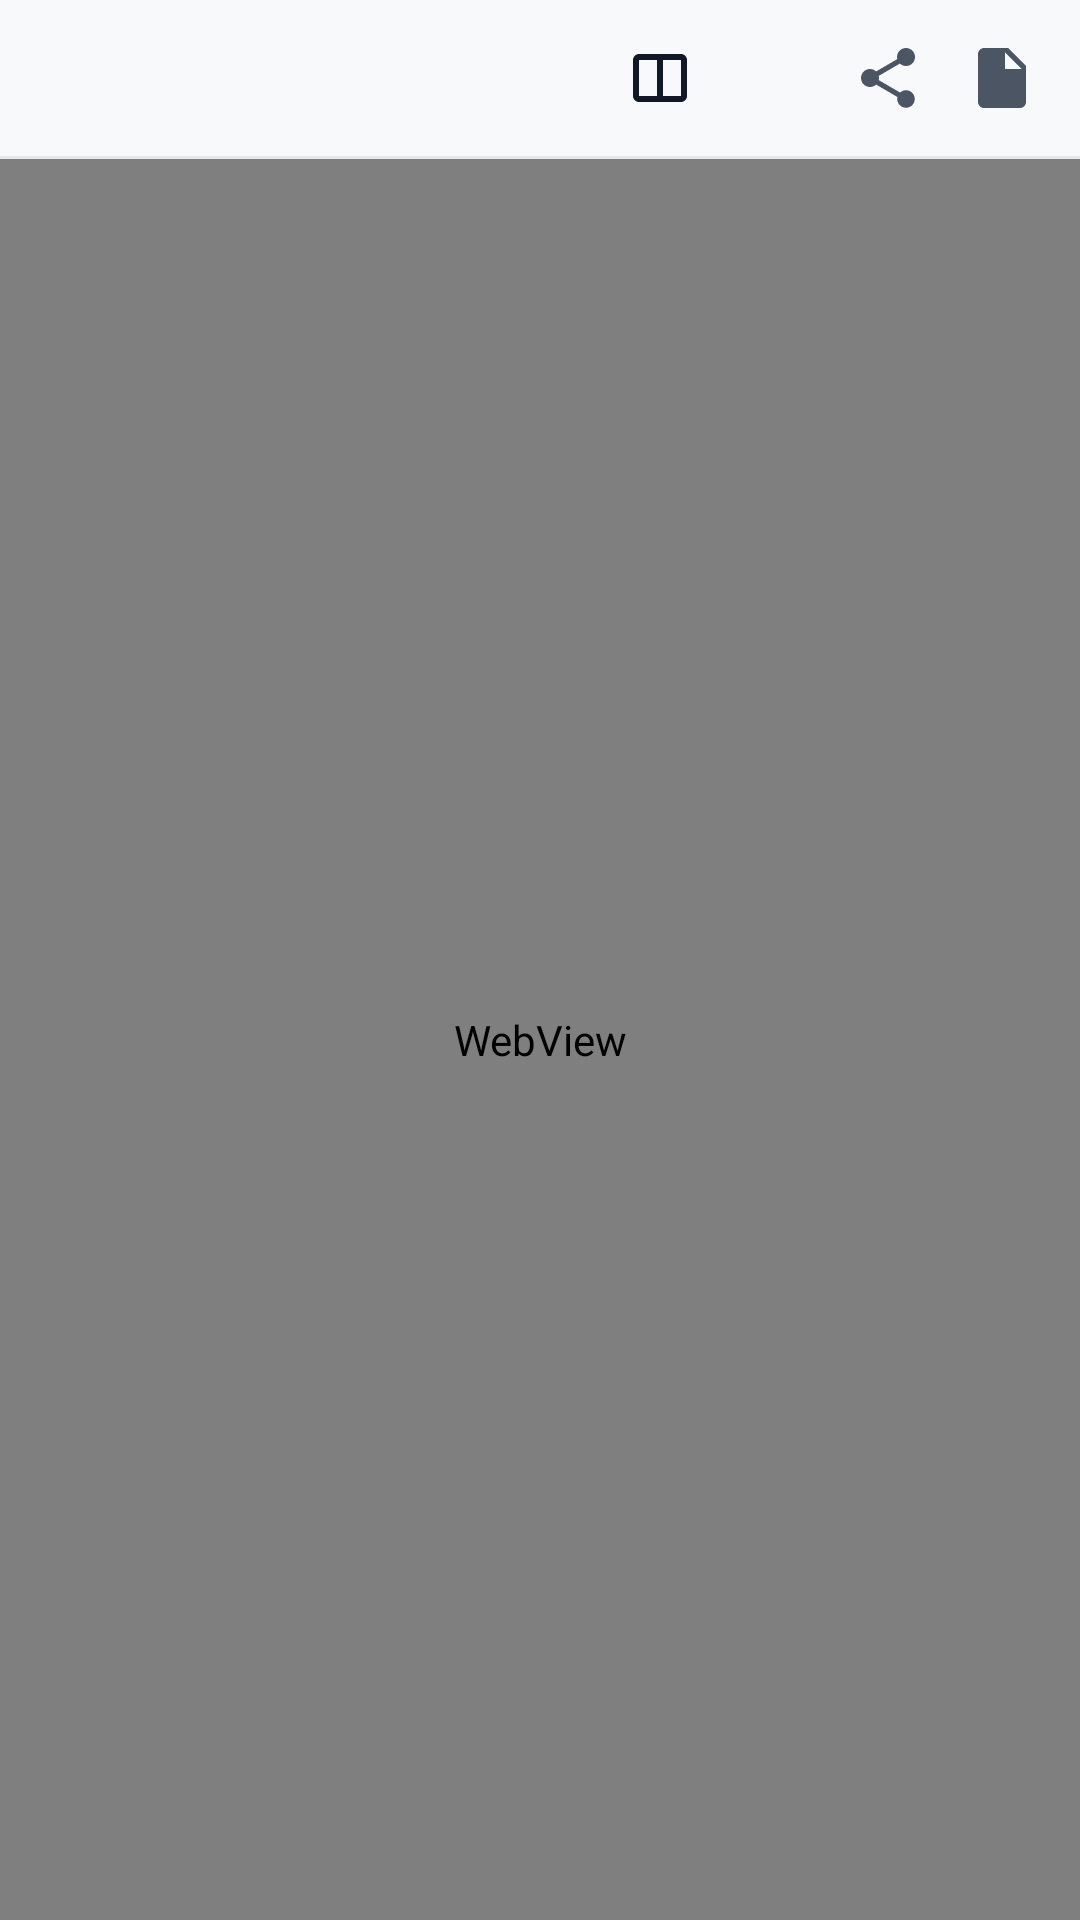

Screen size 1080w x 1920h. Icon name, then its box in pixels as (x1, y1, x2, y2):
Share: (861, 48, 915, 108)
